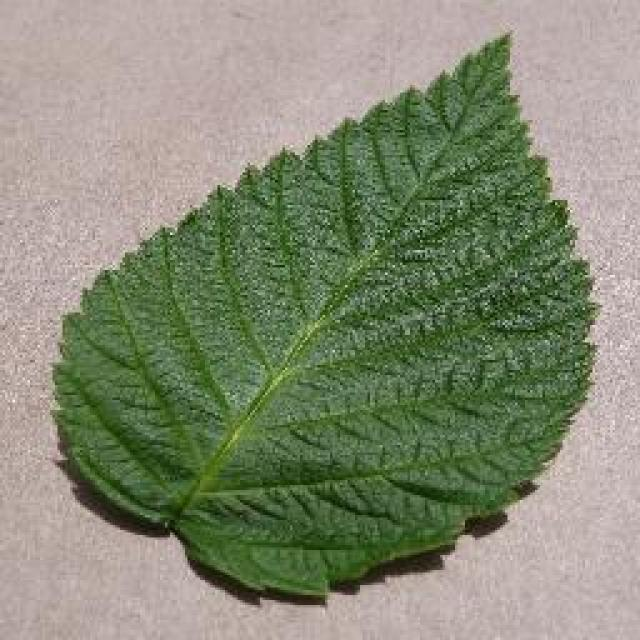Ras_healthy: (83, 104, 546, 504)
